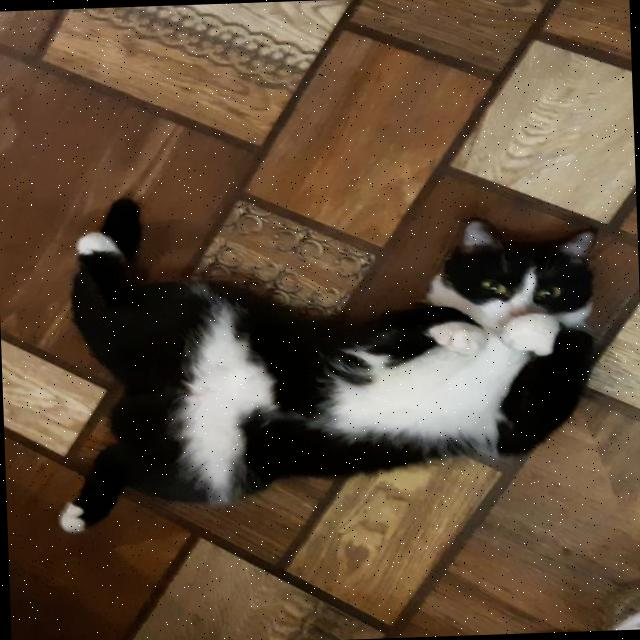cat: (33, 190, 640, 520)
